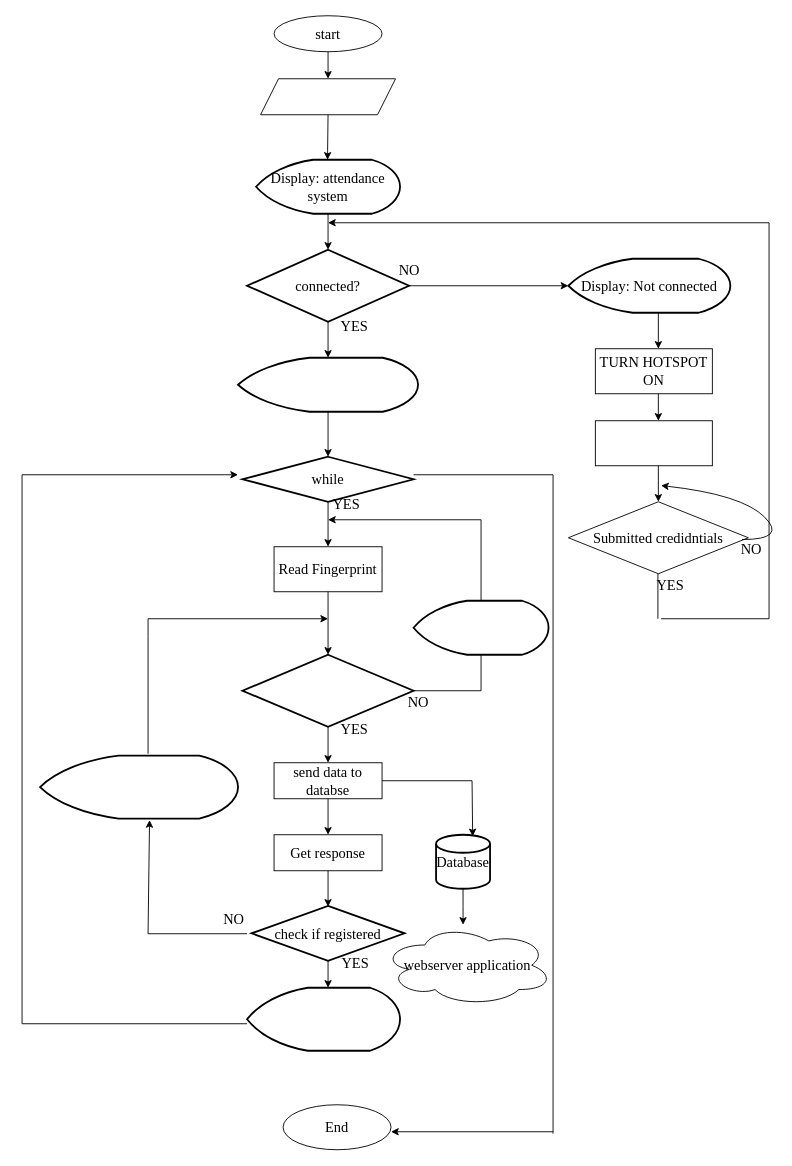
This 792x1166 diagram has some shape labels left out. The centre of each missing label's shape, as x and y in pixels:
Display: Attendance system recorded: pixel 323 1018
Display: connected: pixel 327 384
Display: kindly register: pixel 480 627
Display: not registered,please register: pixel 138 786
intilialize fingerprint: pixel 328 96
Request=attendance?: pixel 327 690
TURN WEBSERVER: pixel 653 443
